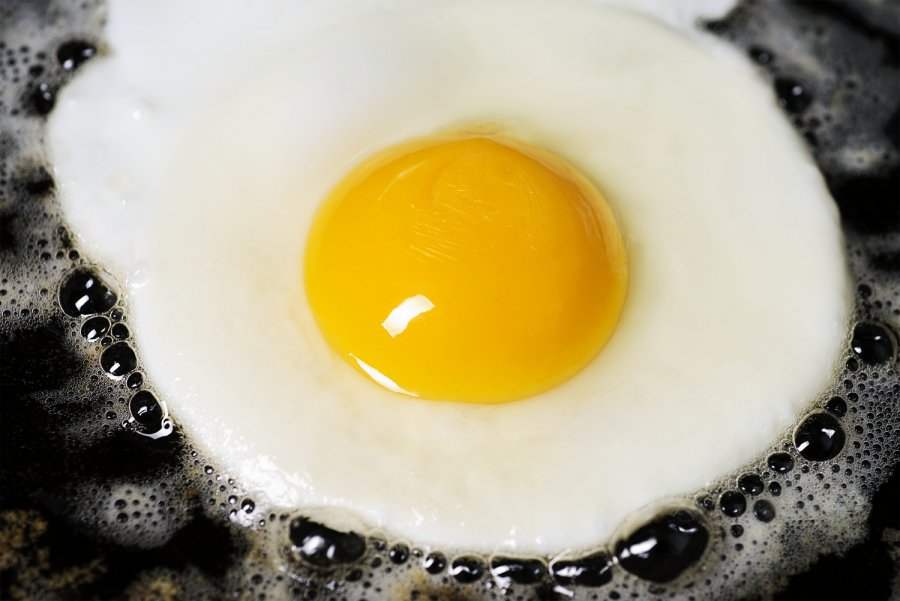fried egg: (177, 98, 741, 500)
